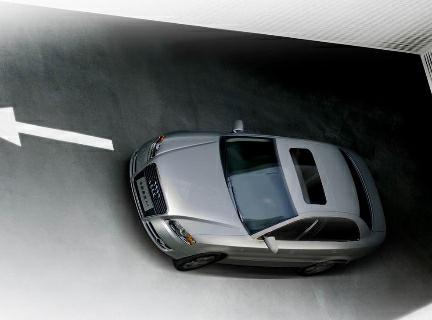奥迪-RS3: (119, 113, 397, 280)
